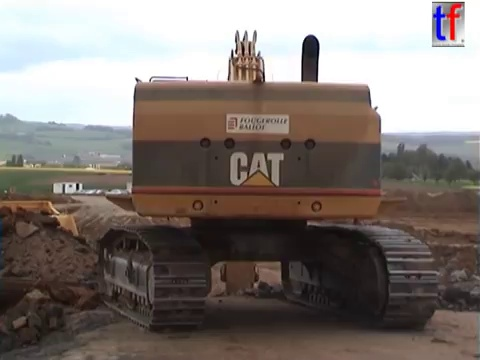excavator: (93, 24, 443, 336)
truck: (1, 196, 134, 360)
